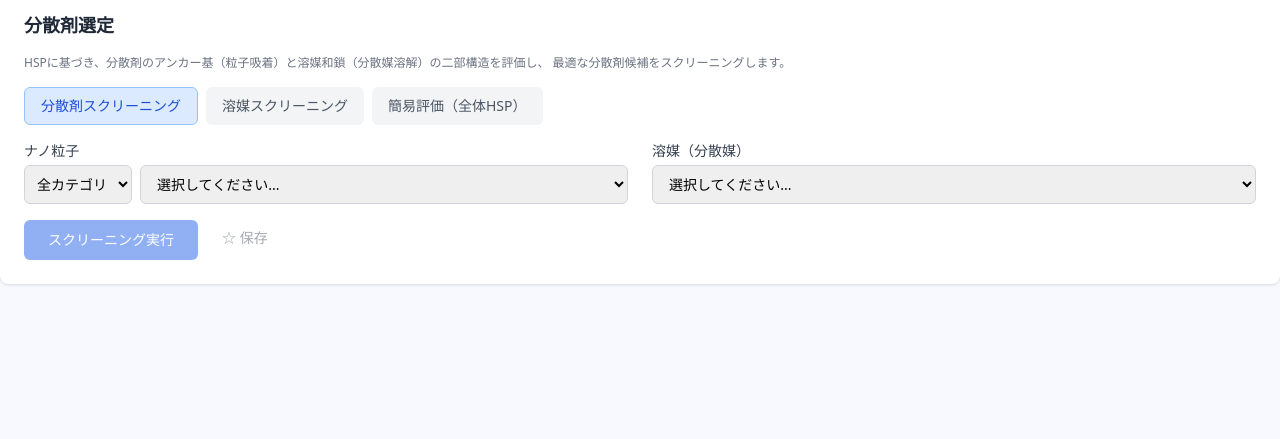
DispersantSelectionView › エラー時にエラーメッセージが表示される
This screenshot has width=1280, height=439.
Select "カーボンブラック (Carbon Black)" in the 2nd dropdown at (384, 184), box [140,165,628,204]
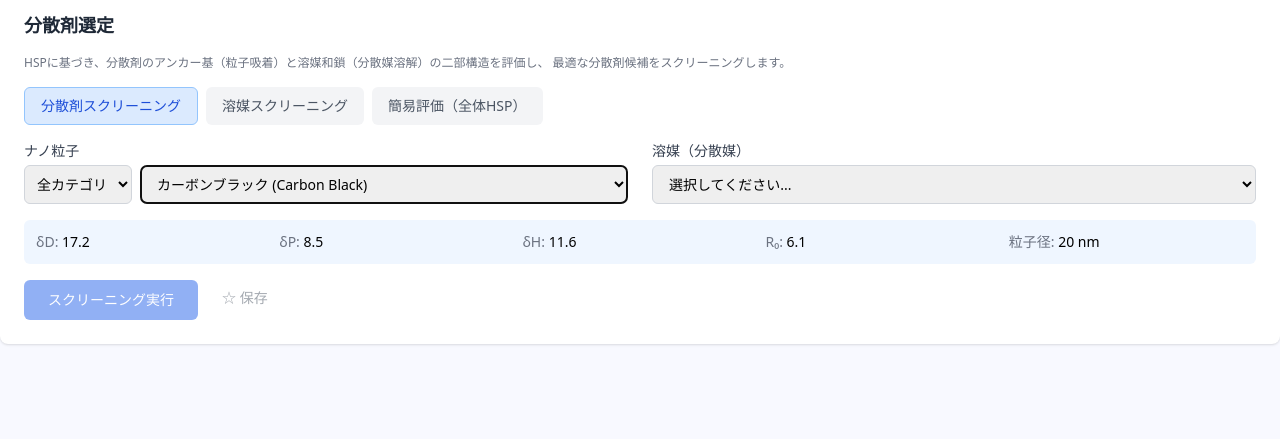
Select "NMP (TestSolvent1)" in the dropdown below "溶媒（分散媒）" at (954, 184), box [652,165,1256,204]
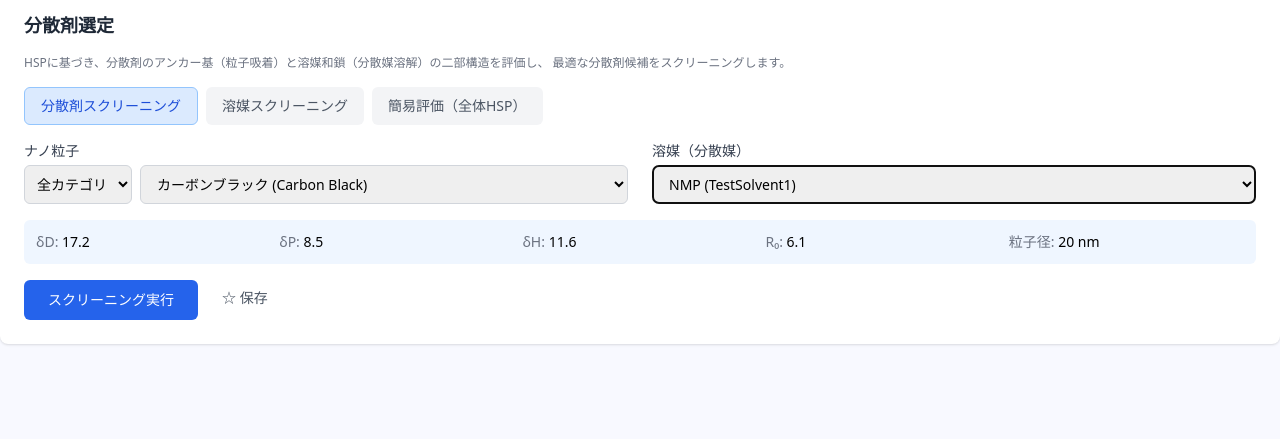
Click the button "スクリーニング実行" at (111, 300), box [24,280,198,320]
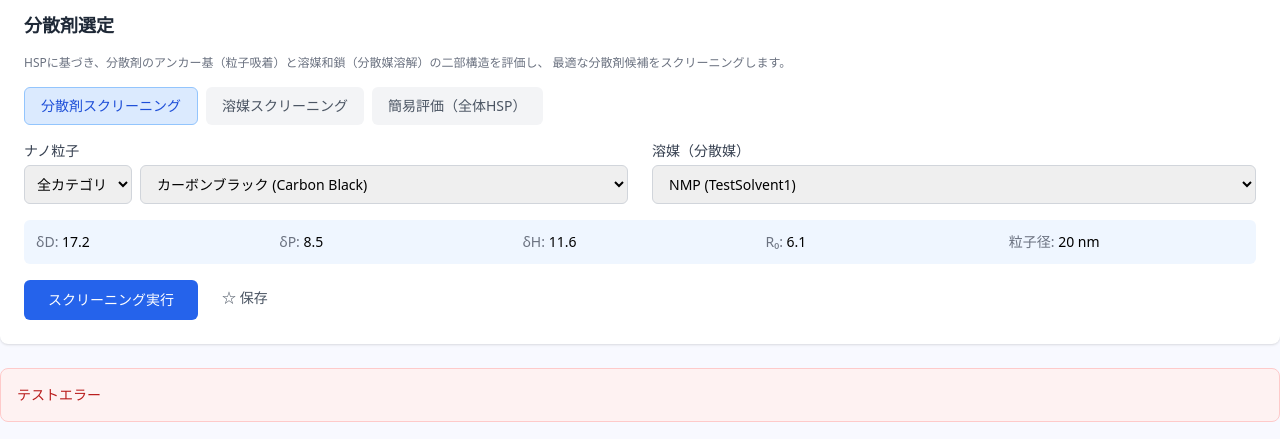
Result: the text "テストエラー" is shown at [0,368,1279,422]
